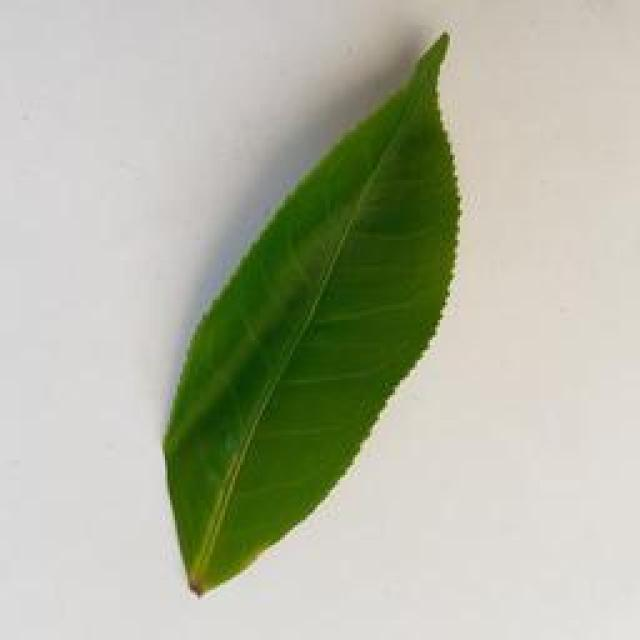Healthy: (155, 27, 470, 603)
